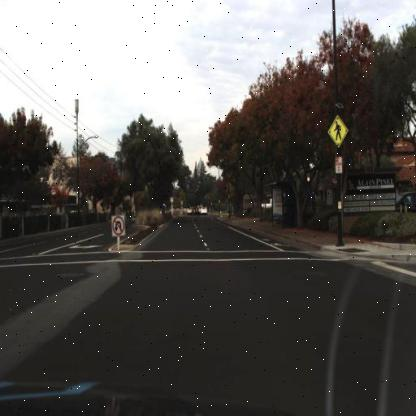car: (192, 206, 200, 216), (200, 207, 208, 215), (186, 208, 194, 215)
trafficLight-Red: (208, 197, 210, 202), (195, 190, 196, 194)
